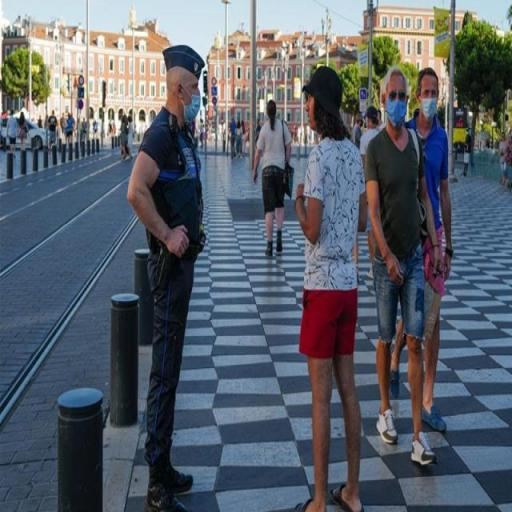person: (130, 44, 209, 512), (289, 66, 368, 512), (368, 70, 439, 467), (391, 68, 453, 433), (256, 100, 295, 257), (17, 114, 31, 158), (462, 128, 474, 179), (48, 112, 60, 157), (8, 112, 19, 160), (228, 116, 239, 164), (500, 133, 509, 189), (64, 115, 77, 150), (128, 115, 137, 161), (120, 117, 128, 164), (237, 123, 244, 160), (199, 119, 206, 151)
